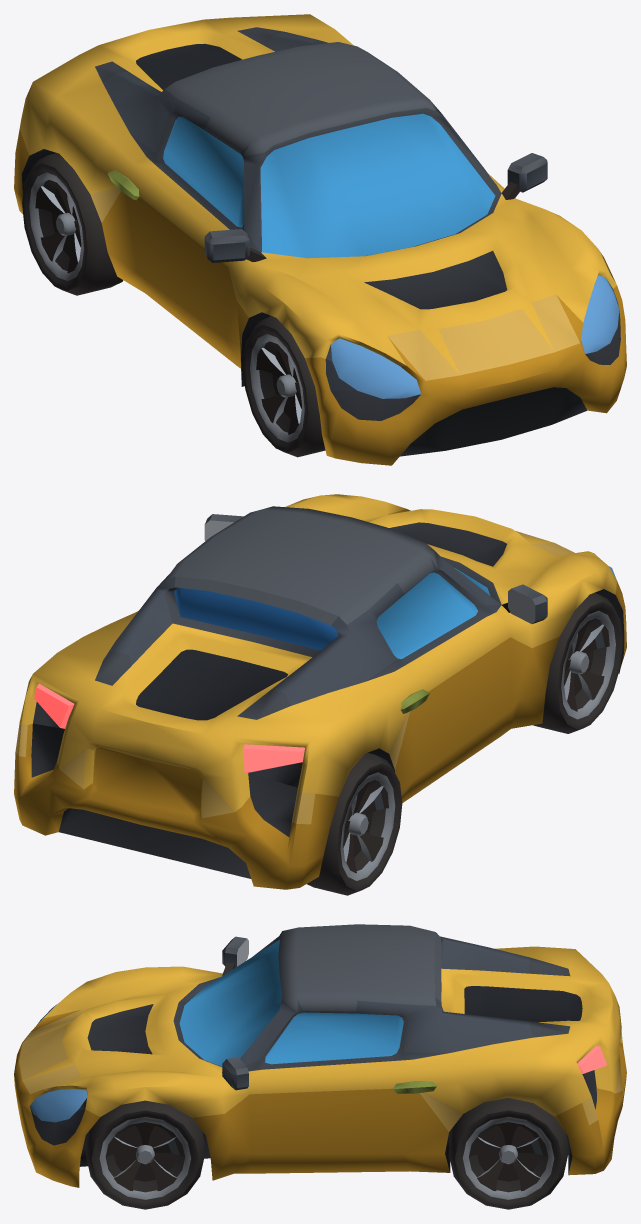
File: car_16_pacote.glb
3 renders of one model, top to bottom at view 1: azimuth 30°, elevation 25°; view 2: azimuth 150°, elevation 25°; view 3: azimuth 270°, elevation 25°, orthographic. The views are drawn at different scales.
Visible parts, largest first — view 1: car_16_pacote, roda_traseira_esq, roda_dianteira_esq; view 2: car_16_pacote, roda_traseira_esq, roda_dianteira_esq; view 3: car_16_pacote, roda_traseira_dir, roda_dianteira_dir.
Part boxes in pixels (x1,y1,x2,y2): car_16_pacote: (14,14,626,465); roda_traseira_esq: (22,153,123,295); roda_dianteira_esq: (243,316,325,457); car_16_pacote: (14,494,626,889); roda_traseira_esq: (307,753,402,895); roda_dianteira_esq: (533,592,622,733); car_16_pacote: (14,924,626,1187); roda_traseira_dir: (449,1098,567,1209); roda_dianteira_dir: (86,1100,204,1209).
Bounding box in the file's own units: 1.96 × 1.33 × 3.72.
Materials: 4 (1 with a texture image).
